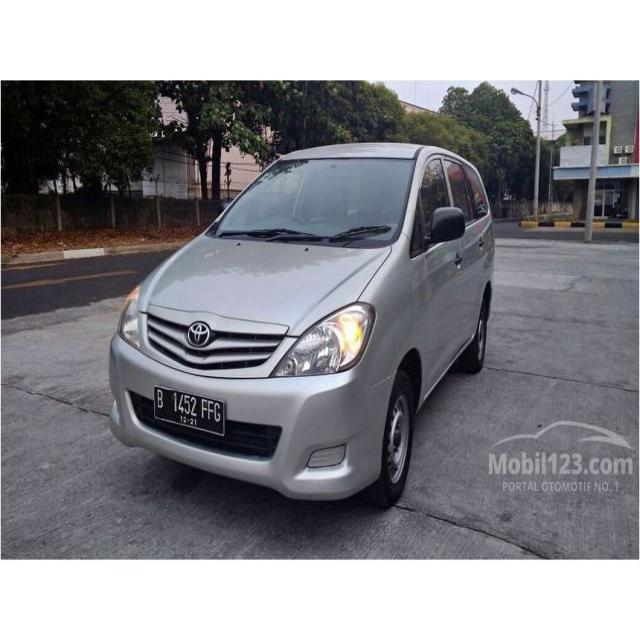light_vehicle: (106, 141, 496, 507)
